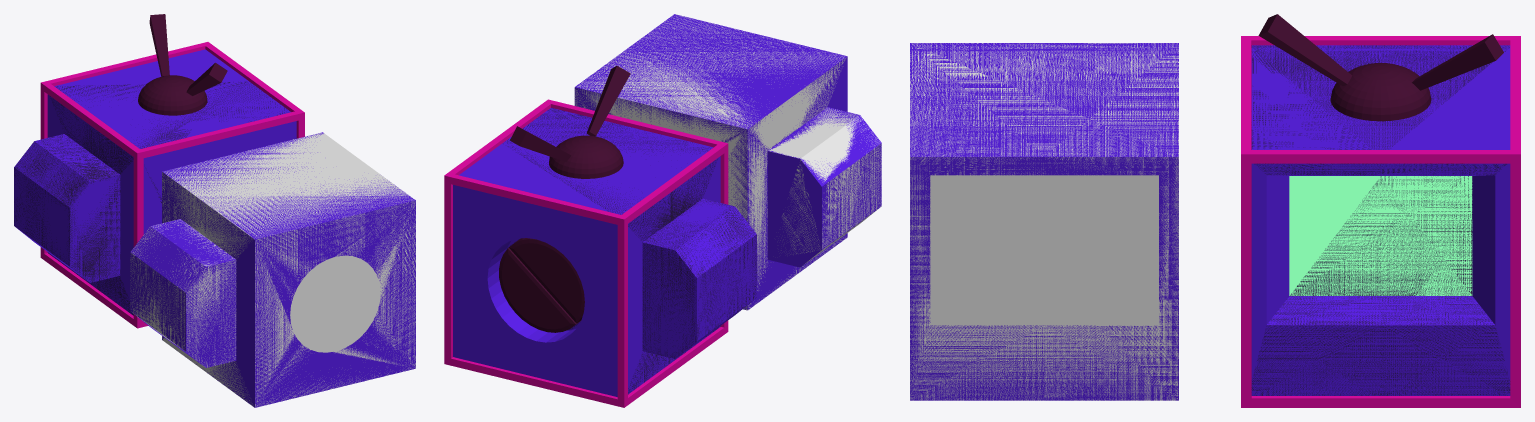
The model's file is Testing_Applying_Wireframe.glb.
3 views of the same model, side by side, from view 1: azimuth 30°, elevation 25°; view 2: azimuth 150°, elevation 25°; view 3: azimuth 270°, elevation 25° (orthographic). The views are drawn at different scales.
Visible parts, largest first — view 1: Main_Body.001, Body_Basic_Shape, Main_Body, Main_Body_Wireframe, Test_Outline_Wireframe, Antenna_Base, Antenna_Right, Antenna_Left; view 2: Main_Body, Main_Body.001, Body_Basic_Shape, Test_Outline_Wireframe, Main_Body_Wireframe, Right_Bot_Button, Right_Top_Button, Antenna_Base, Antenna_Left, Antenna_Right; view 3: Main_Body, Body_Basic_Shape, Main_Body.001, Main_Body_Wireframe, Test_Outline_Wireframe, Antenna_Base, Antenna_Left, Antenna_Right.
Boxes of the visible parts, box(x1,y1,x2,y2) form: Main_Body.001: box(130, 132, 415, 407); Body_Basic_Shape: box(130, 133, 415, 407); Main_Body: box(14, 49, 296, 315); Main_Body_Wireframe: box(14, 81, 286, 314); Test_Outline_Wireframe: box(40, 42, 304, 328); Antenna_Base: box(138, 75, 207, 115); Antenna_Right: box(149, 14, 169, 76); Antenna_Left: box(186, 62, 227, 95); Main_Body: box(453, 108, 756, 396); Main_Body.001: box(574, 14, 881, 310); Body_Basic_Shape: box(574, 14, 881, 310); Test_Outline_Wireframe: box(444, 99, 728, 407); Main_Body_Wireframe: box(503, 108, 756, 394); Right_Bot_Button: box(499, 248, 581, 332); Right_Top_Button: box(509, 238, 584, 323); Antenna_Base: box(549, 135, 623, 178); Antenna_Left: box(586, 66, 630, 136); Antenna_Right: box(510, 126, 571, 161); Main_Body: box(1251, 45, 1510, 395); Body_Basic_Shape: box(910, 43, 1178, 400); Main_Body.001: box(910, 43, 1178, 400); Main_Body_Wireframe: box(1251, 45, 1510, 395); Test_Outline_Wireframe: box(1241, 36, 1520, 407); Antenna_Base: box(1330, 63, 1431, 121); Antenna_Left: box(1258, 14, 1352, 85); Antenna_Right: box(1412, 34, 1503, 90).
Bounding box in the file's own units: 10.66 × 11.15 × 18.16.
